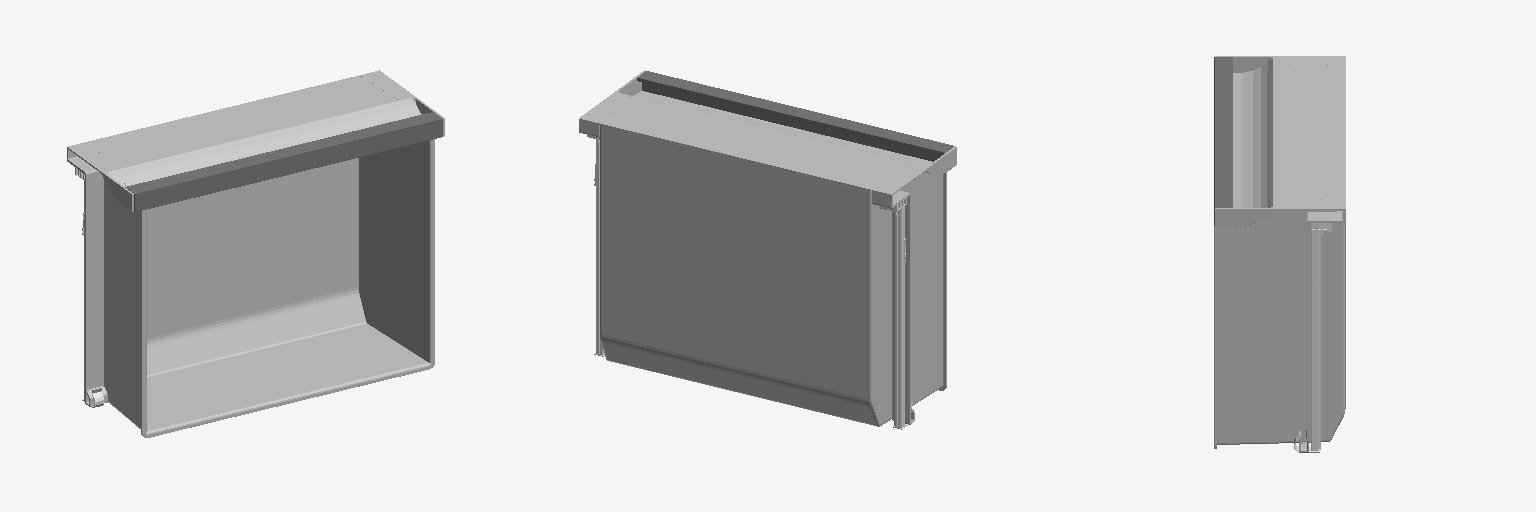
3 views of the same model, side by side, from view 1: azimuth 30°, elevation 25°; view 2: azimuth 150°, elevation 25°; view 3: azimuth 270°, elevation 25° (orthographic).
Parts seen in each view (by area): view 1: SM_Fridge_Drawer_01; view 2: SM_Fridge_Drawer_01; view 3: SM_Fridge_Drawer_01.
Part boxes in pixels (bbox=[...]): SM_Fridge_Drawer_01: bbox=[67, 70, 444, 437]; SM_Fridge_Drawer_01: bbox=[579, 70, 956, 429]; SM_Fridge_Drawer_01: bbox=[1214, 56, 1345, 452].
Bounding box in the file's own units: 0.4543 × 0.3436 × 0.165.
3 materials, 2 textured.